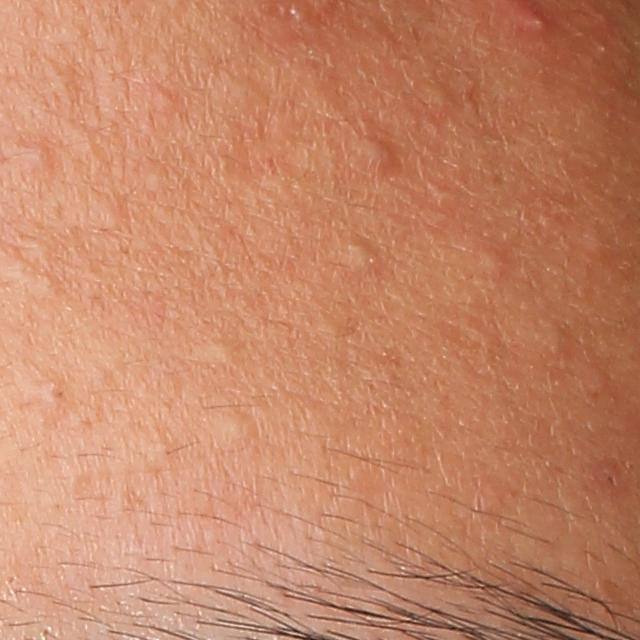comedo: (209, 408, 263, 451), (418, 72, 459, 110), (343, 236, 379, 269), (474, 244, 506, 280), (26, 139, 57, 170), (204, 339, 239, 365), (581, 227, 610, 255), (148, 86, 177, 113), (37, 378, 60, 408), (30, 272, 54, 297)
papule: (350, 128, 400, 170)
